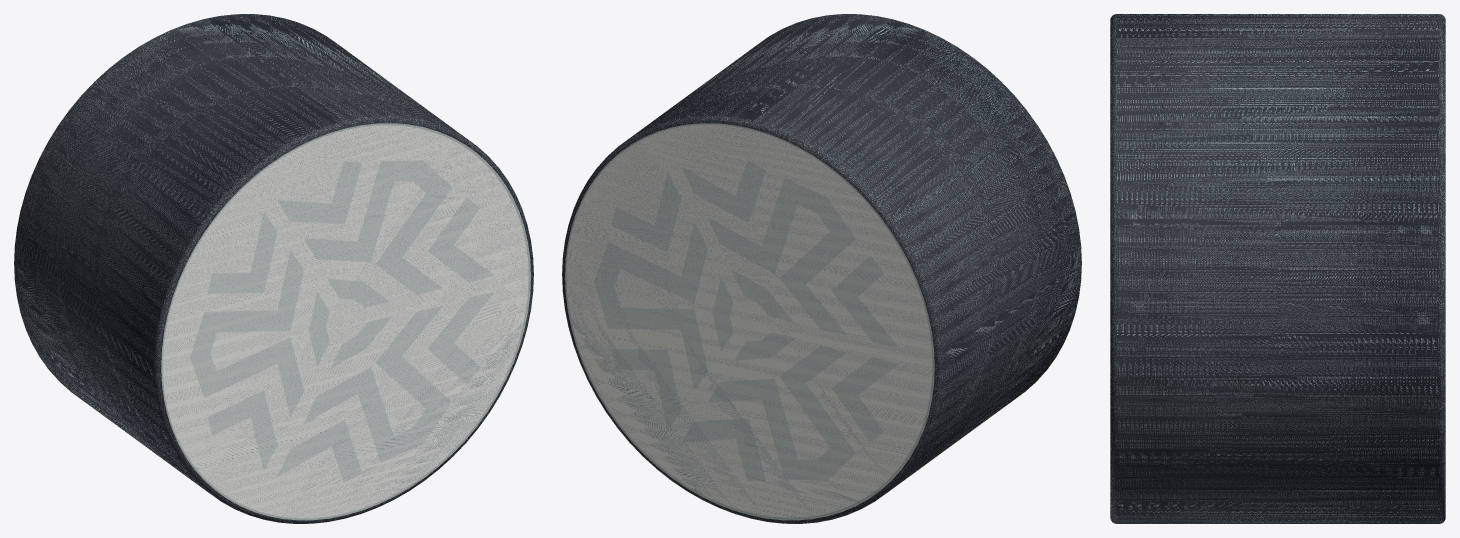
The model's file is atom4.dae.
3 views of the same model, side by side, from view 1: azimuth 30°, elevation 25°; view 2: azimuth 150°, elevation 25°; view 3: azimuth 270°, elevation 25° (orthographic). The views are drawn at different scales.
Visible parts, largest first — view 1: skp5FEB (×2); view 2: skp5FEB (×2); view 3: skp5FEB.
Boxes of the visible parts, x1,y1,x2,y2 form: skp5FEB (×2): (14, 14, 533, 523); skp5FEB (×2): (562, 14, 1081, 523); skp5FEB: (1110, 14, 1445, 523).
Size of the model in its own units: 2.99 by 1.97 by 2.99.
Materials: 3 (2 with a texture image).
